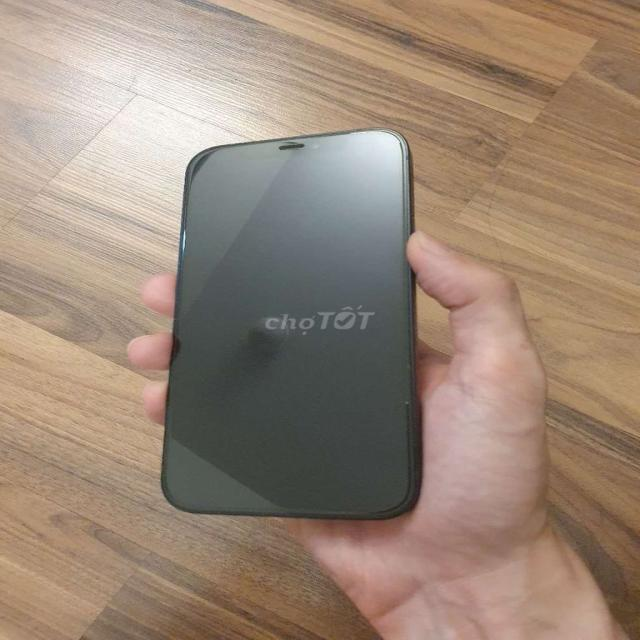gen_12_13: (145, 105, 457, 532)
